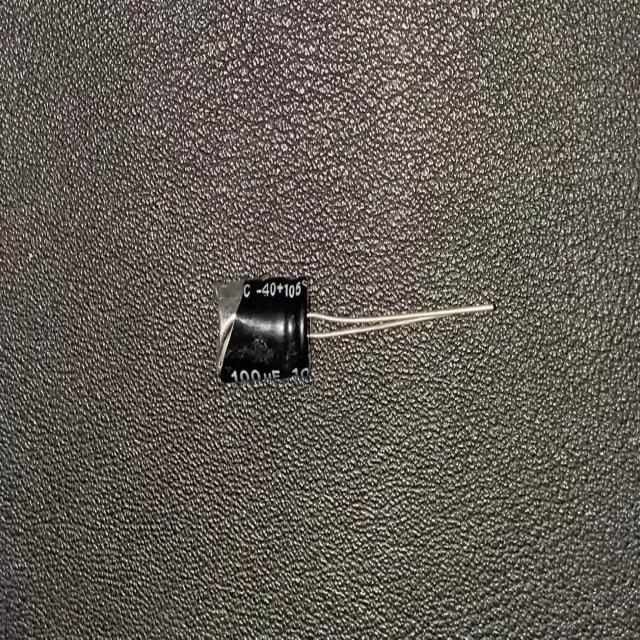capacitor: (209, 270, 497, 390)
cracked: (213, 279, 252, 377)
